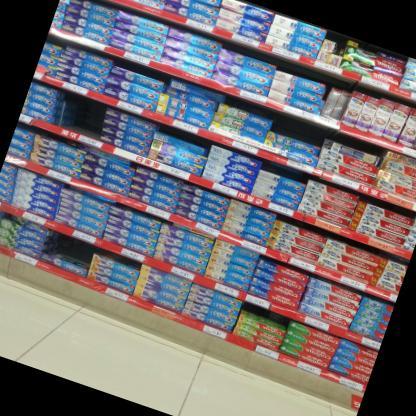empty_space: (62, 98, 102, 140)
